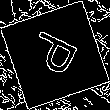P_SE: (24, 27, 86, 83)
